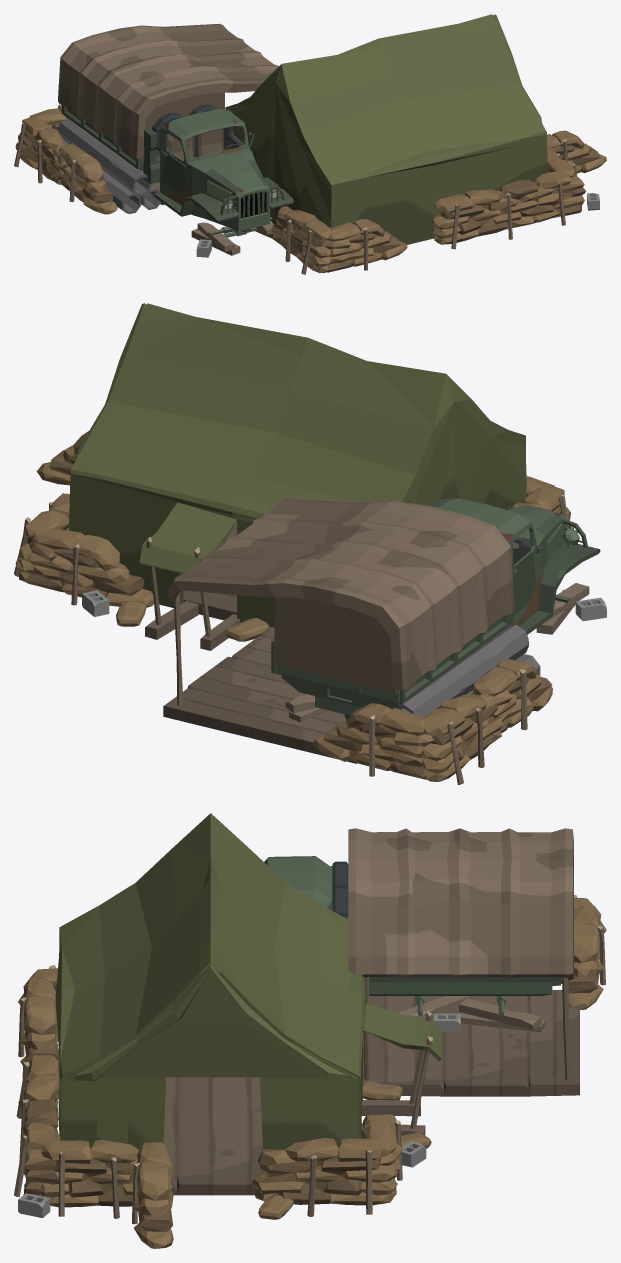
The model's file is apoc_SM_Bld_Military_Tent_Preset_01.gltf.
3 renders of one model, top to bottom at view 1: azimuth 30°, elevation 25°; view 2: azimuth 150°, elevation 25°; view 3: azimuth 270°, elevation 25°, orthographic. The views are drawn at different scales.
Visible parts, largest first — view 1: SM_Bld_Military_Tent_Preset_01; view 2: SM_Bld_Military_Tent_Preset_01; view 3: SM_Bld_Military_Tent_Preset_01.
Boxes of the visible parts, x1=… form: SM_Bld_Military_Tent_Preset_01: x1=14, y1=14, x2=606, y2=274; SM_Bld_Military_Tent_Preset_01: x1=14, y1=303, x2=606, y2=784; SM_Bld_Military_Tent_Preset_01: x1=14, y1=813, x2=606, y2=1248.
Size of the model in its own units: 11.69 by 4.23 by 9.47.
Materials: 2 (2 with a texture image).
